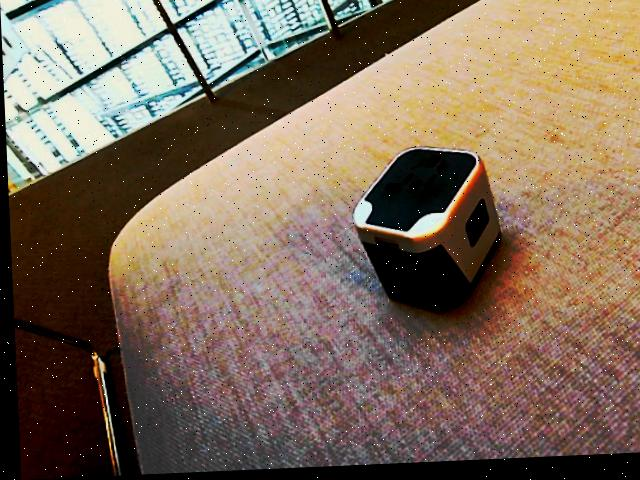adapter: (348, 146, 501, 319)
